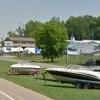Boat: (6, 57, 96, 89)
